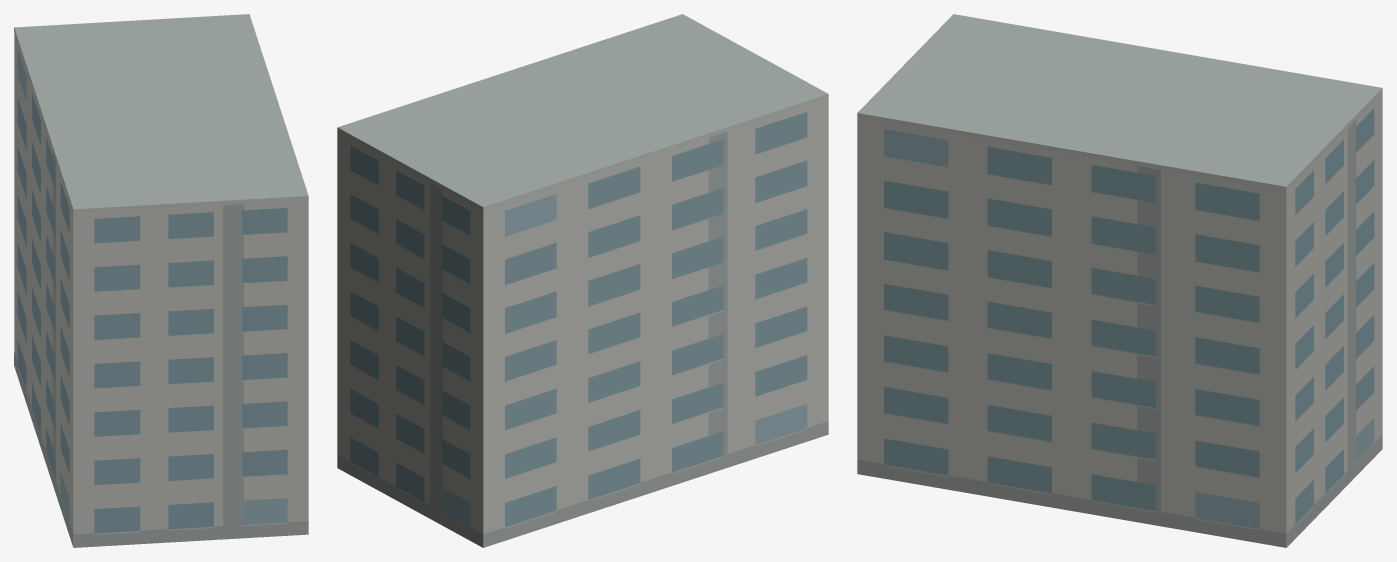
Rendered from survey-upis-33041214.glb.
3 views of the same model, side by side, from view 1: azimuth 30°, elevation 25°; view 2: azimuth 150°, elevation 25°; view 3: azimuth 270°, elevation 25° (orthographic). The views are drawn at different scales.
Parts seen in each view (by area): view 1: survey-upis-33041214.tmp; view 2: survey-upis-33041214.tmp; view 3: survey-upis-33041214.tmp.
Boxes of the visible parts, box(x1,y1,x2,y2) form: survey-upis-33041214.tmp: box(14, 14, 308, 547); survey-upis-33041214.tmp: box(337, 14, 828, 547); survey-upis-33041214.tmp: box(857, 14, 1382, 547).
Size of the model in its own units: 19.21 by 18.7 by 24.67.
